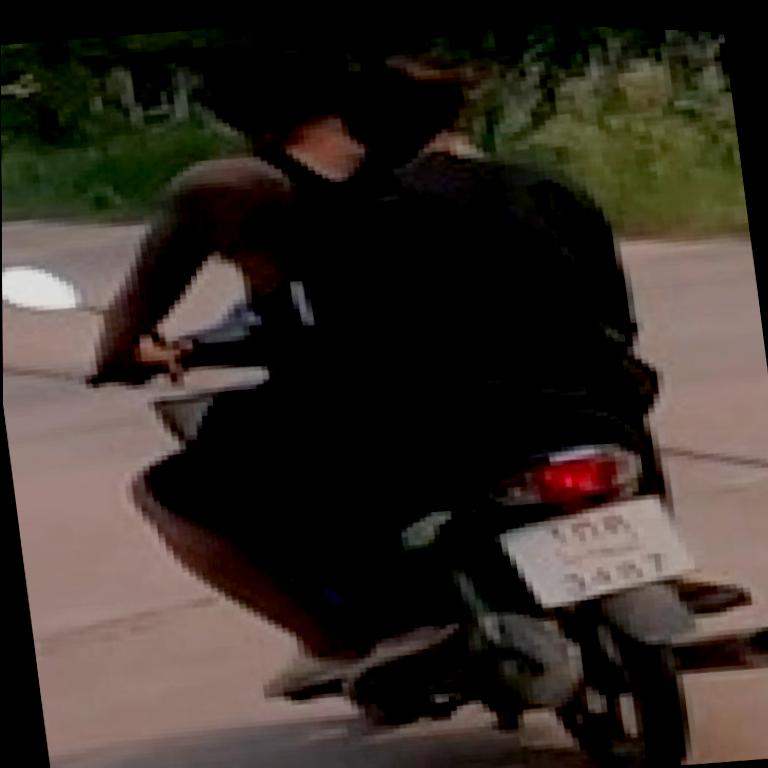license plate: (499, 496, 690, 603)
